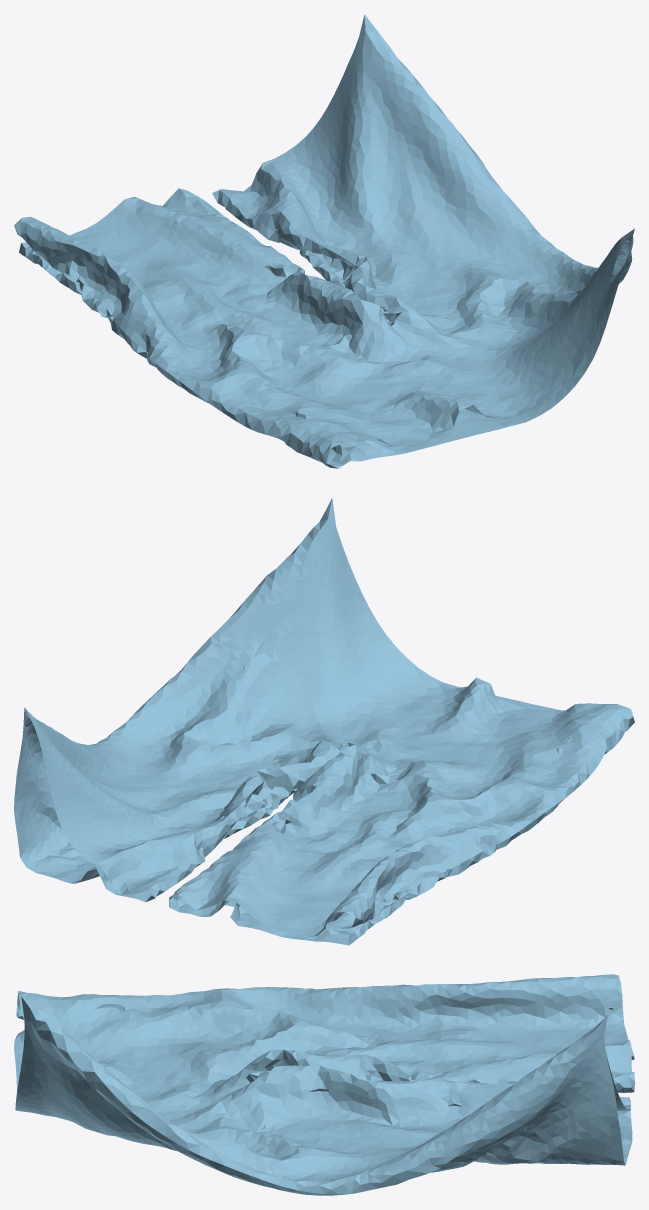
File: frame_05.glb
The picture shows the model from 3 angles, top to bottom: view 1: azimuth 30°, elevation 25°; view 2: azimuth 150°, elevation 25°; view 3: azimuth 270°, elevation 25°; orthographic projection. The views are drawn at different scales.
Visible parts, largest first — view 1: frame_05.obj; view 2: frame_05.obj; view 3: frame_05.obj.
Part boxes in pixels (x1=…): frame_05.obj: x1=14, y1=14, x2=634, y2=468; frame_05.obj: x1=14, y1=498, x2=634, y2=945; frame_05.obj: x1=14, y1=974, x2=634, y2=1195.
Bounding box in the file's own units: 1.24 × 0.4876 × 1.6.
